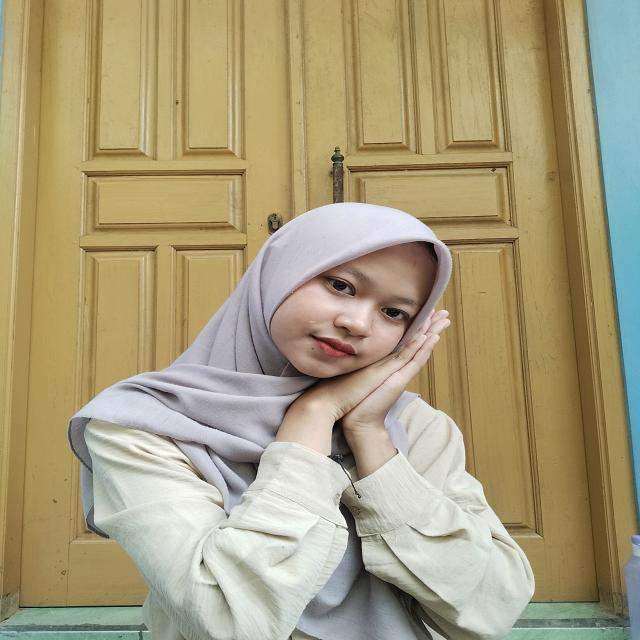tidur: (264, 306, 454, 484)
